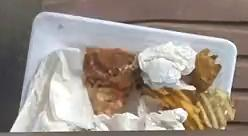fries: (154, 48, 232, 130)
pizza_crust: (84, 48, 135, 114)
